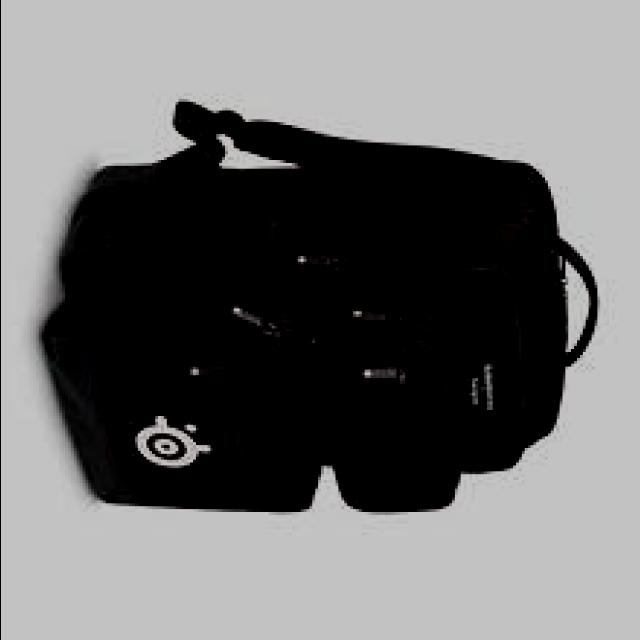backpack: (48, 100, 604, 516)
